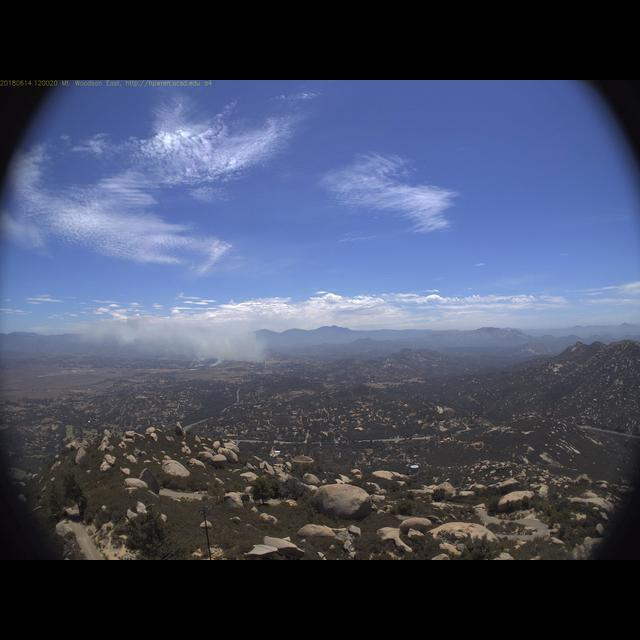Smoke: (82, 303, 272, 366)
